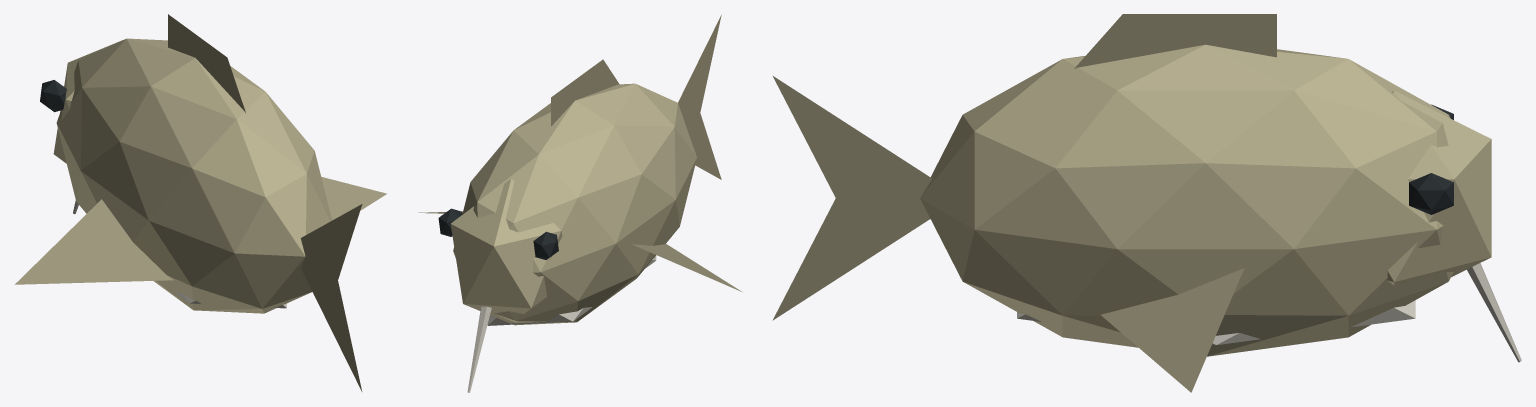
Rendered from Cod.fbx.
3 renders of one model, left to right at view 1: azimuth 30°, elevation 25°; view 2: azimuth 150°, elevation 25°; view 3: azimuth 270°, elevation 25°, orthographic. The views are drawn at different scales.
Parts seen in each view (by area): view 1: Body, Pectoral1, TailFin, DorsalFin, Pectoral-1, Head, Eye1; view 2: Body, Head, TailFin, DorsalFin, Pectoral1, ChinBarbel, Belly, Eye1, Eye-1; view 3: Body, TailFin, Head, Pectoral-1, DorsalFin, Eye-1, Belly, ChinBarbel.
Part boxes in pixels (bbox=[...]): Body: bbox=[56, 38, 331, 313]; Pectoral1: bbox=[15, 199, 173, 284]; TailFin: bbox=[300, 204, 362, 391]; DorsalFin: bbox=[168, 14, 245, 112]; Pectoral-1: bbox=[321, 177, 386, 220]; Head: bbox=[53, 40, 122, 163]; Eye1: bbox=[40, 80, 67, 112]; Body: bbox=[453, 83, 696, 325]; Head: bbox=[450, 178, 562, 323]; TailFin: bbox=[678, 15, 721, 179]; DorsalFin: bbox=[551, 59, 619, 126]; Pectoral1: bbox=[631, 243, 741, 291]; ChinBarbel: bbox=[467, 306, 491, 392]; Belly: bbox=[487, 255, 656, 325]; Eye1: bbox=[533, 231, 558, 259]; Eye-1: bbox=[438, 208, 462, 236]; Body: bbox=[920, 44, 1453, 356]; TailFin: bbox=[772, 76, 932, 320]; Head: bbox=[1387, 91, 1491, 285]; Pectoral-1: bbox=[1101, 268, 1244, 392]; DorsalFin: bbox=[1074, 14, 1276, 68]; Eye-1: bbox=[1409, 173, 1453, 214]; Belly: bbox=[1017, 300, 1415, 345]; ChinBarbel: bbox=[1467, 263, 1521, 362].
Size of the model in its own units: 0.528 by 0.3627 by 0.7081.
